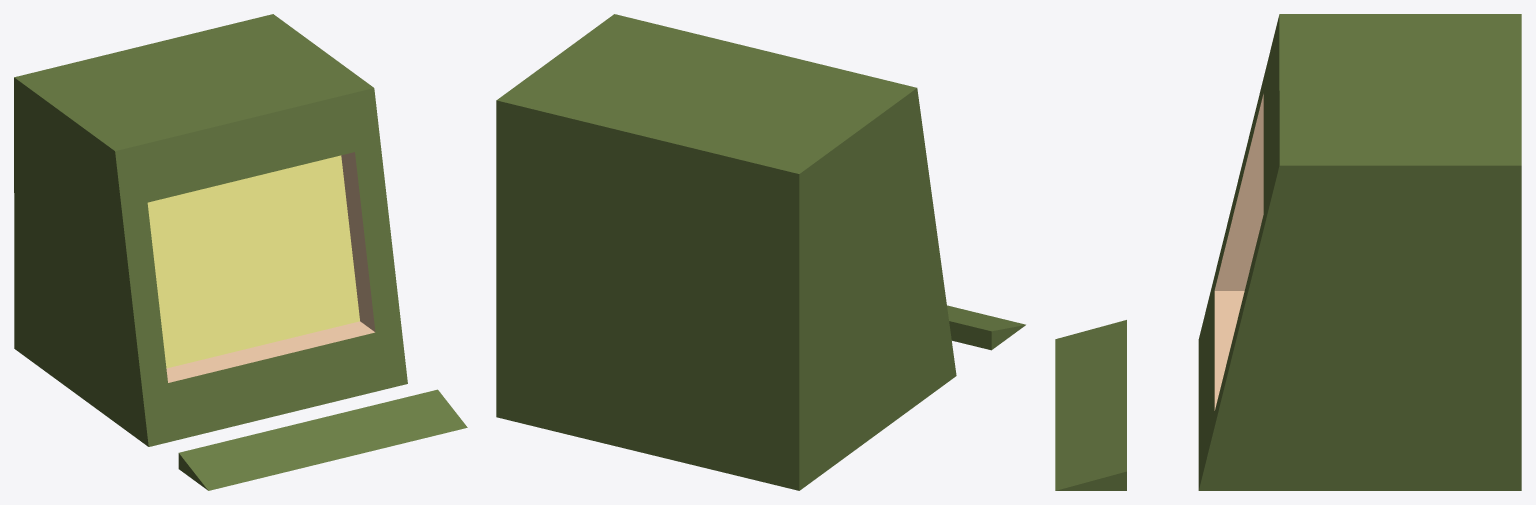
File: computer3.gltf
The picture shows the model from 3 angles, left to right: view 1: azimuth 30°, elevation 25°; view 2: azimuth 150°, elevation 25°; view 3: azimuth 270°, elevation 25°; orthographic projection. The views are drawn at different scales.
Visible parts, largest first — view 1: Mesh1 Model, Mesh2 Model; view 2: Mesh1 Model, Mesh2 Model; view 3: Mesh1 Model, Mesh2 Model.
Part boxes in pixels (<box>): Mesh1 Model: <box>14,14,407,446</box>; Mesh2 Model: <box>178,389,467,490</box>; Mesh1 Model: <box>496,14,956,490</box>; Mesh2 Model: <box>947,305,1025,350</box>; Mesh1 Model: <box>1198,14,1521,490</box>; Mesh2 Model: <box>1055,320,1126,490</box>.
Size of the model in its own units: 0.5 by 0.5 by 0.65.
